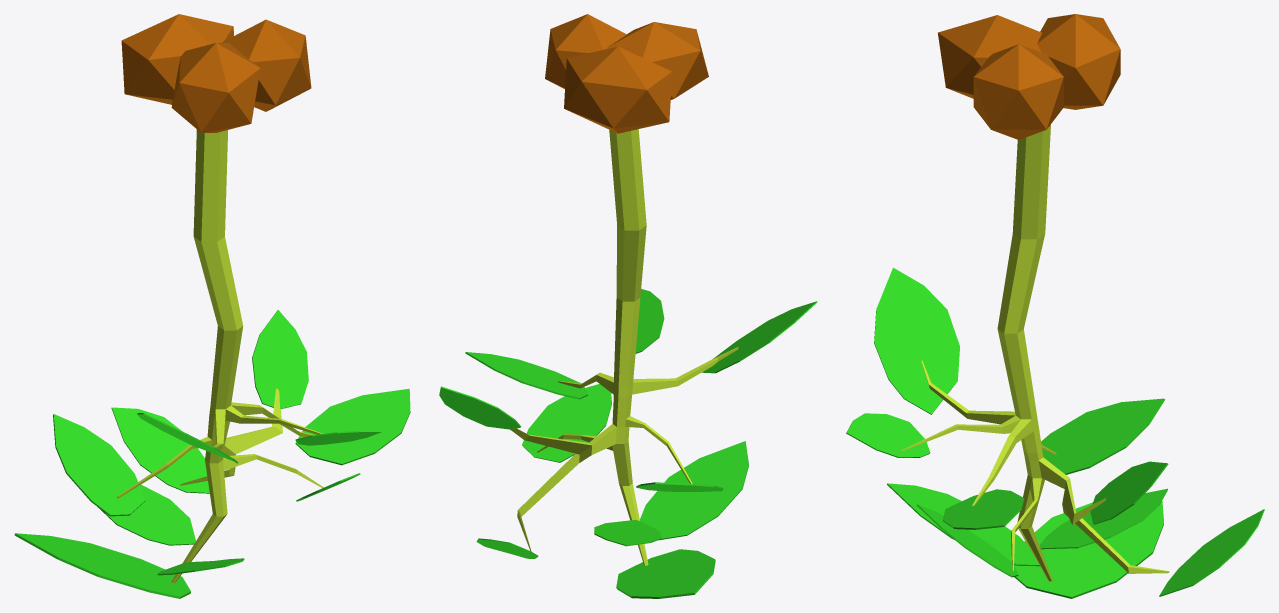
Rendered from Stage_3.fbx.
The picture shows the model from 3 angles, left to right: view 1: azimuth 30°, elevation 25°; view 2: azimuth 150°, elevation 25°; view 3: azimuth 270°, elevation 25°; orthographic projection. The views are drawn at different scales.
Visible parts, largest first — view 1: Plane.006; view 2: Plane.006; view 3: Plane.006.
Boxes of the visible parts, bbox=[...] form: Plane.006: bbox=[14, 14, 410, 598]; Plane.006: bbox=[439, 14, 817, 598]; Plane.006: bbox=[846, 14, 1264, 598].
Bounding box in the file's own units: 203 × 341 × 221.
